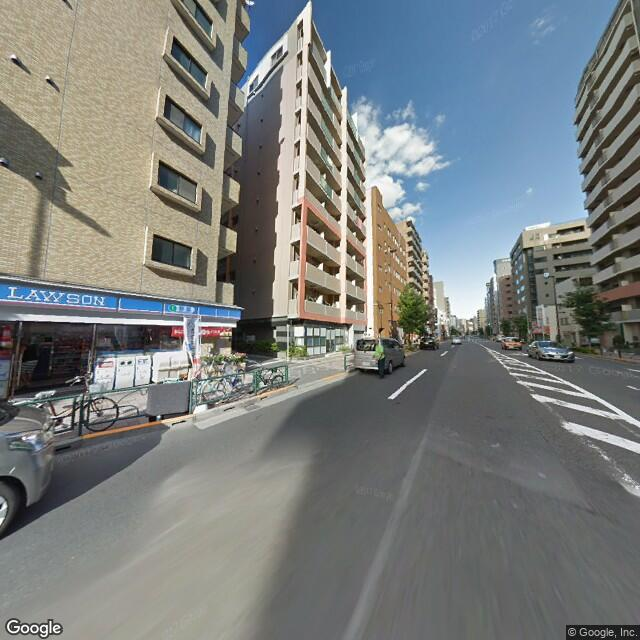lawson: (1, 276, 242, 326)
